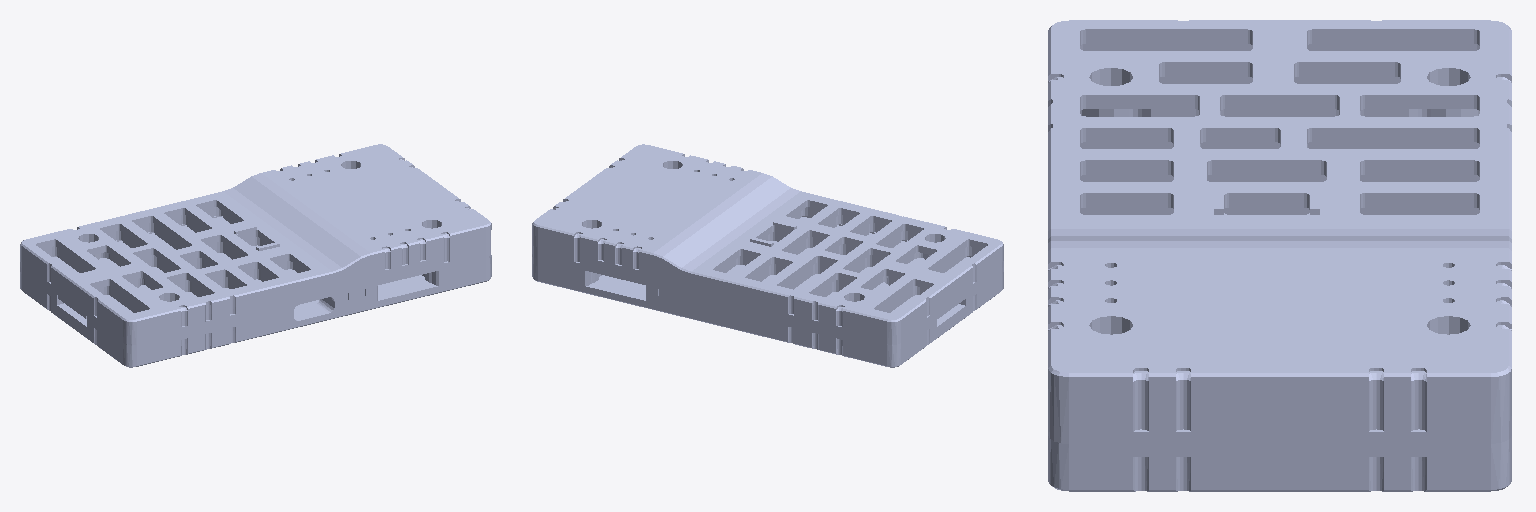
URDF robot description (test_urdf):
<?xml version="1.0" encoding="utf-8"?>
<!-- This URDF was automatically created by SolidWorks to URDF Exporter! Originally created by [author] ([email redacted]) 
     Commit Version: 1.5.1-0-g916b5db  Build Version: 1.5.7152.31018
     For more information, please see http://wiki.ros.org/sw_urdf_exporter -->
<robot
  name="test_urdf">
<link name="base_footprint">
    <visual>
        <origin xyz="0 0 0" rpy="0 0 0" />
        <geometry>
            <box size="0.001 0.001 0.001" />
        </geometry>
    </visual>
</link>

<joint name="base_footprint_joint" type="fixed">
    <origin xyz="0 0 0.001" rpy="0 0 0" />
    <parent link="base_footprint"/>
    <child link="base_link" />
</joint>
  <link
    name="base_link">
    <inertial>
      <origin
        xyz="8.60585474410372E-19 -0.005 -1.68457009048125E-17"
        rpy="0 0 0" />
      <mass
        value="0.2" />
      <inertia
        ixx="0.000668333333333333"
        ixy="7.1783218836645E-22"
        ixz="8.75854655006207E-20"
        iyy="0.000833333333333334"
        iyz="-4.07181612645941E-20"
        izz="0.000168333333333333" />
    </inertial>
    <visual>
      <origin
        xyz="0 0 0"
        rpy="0 0 0" />
      <geometry>
        <mesh
          filename="package://test_urdf_tool/meshes/visual/base_link.STL" />
      </geometry>
      <material
        name="">
        <color
          rgba="0.792156862745098 0.819607843137255 0.933333333333333 1" />
      </material>
    </visual>
    <collision>
      <origin
        xyz="0 0 0"
        rpy="0 0 0" />
      <geometry>
        <mesh
          filename="package://test_urdf_tool/meshes/visual/base_link.STL" />
      </geometry>
    </collision>
  </link>
</robot>

--- Facts derived from the render (not from the file) ---
3 views of the same robot in one strip: view 1: azimuth 30°, elevation 25°; view 2: azimuth 150°, elevation 25°; view 3: azimuth 270°, elevation 25° (orthographic).
Model test_urdf with 2 links and 1 joints (1 fixed), rooted at base_footprint, posed every joint at zero.
Links seen in each view (by area): view 1: base_link; view 2: base_link; view 3: base_link.
Link boxes in pixels (<box>): base_link: <box>20,144,491,367</box>; base_link: <box>532,144,1003,367</box>; base_link: <box>1048,20,1511,491</box>.
Bounding box of the posed robot: 0.084 × 0.044 × 0.0124 m (x, y, z).
1 mesh visuals loaded from 1 distinct referenced files (1 binary STL).